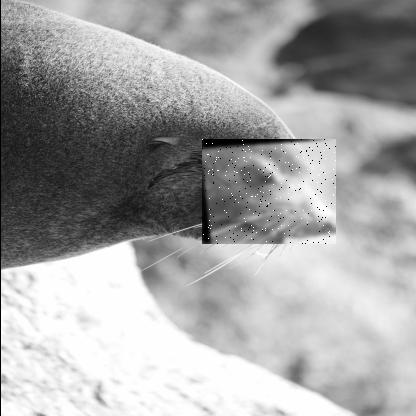face: (200, 139, 335, 245)
